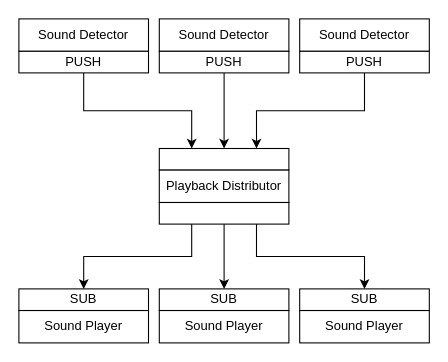
The diagram is 448 pixels wide and 362 high, and some of its shapes have lost their labels. The box of each missing label's shape, as (x1, y1, x2, y2) in pixels:
PUB: (158, 201, 289, 224)
PULL: (158, 147, 289, 170)
